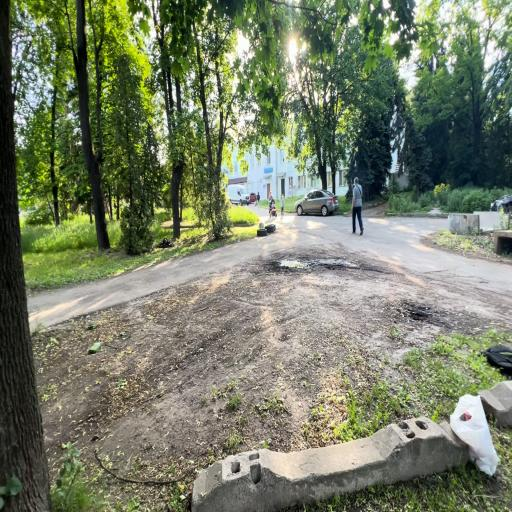drone: (156, 238, 175, 249)
